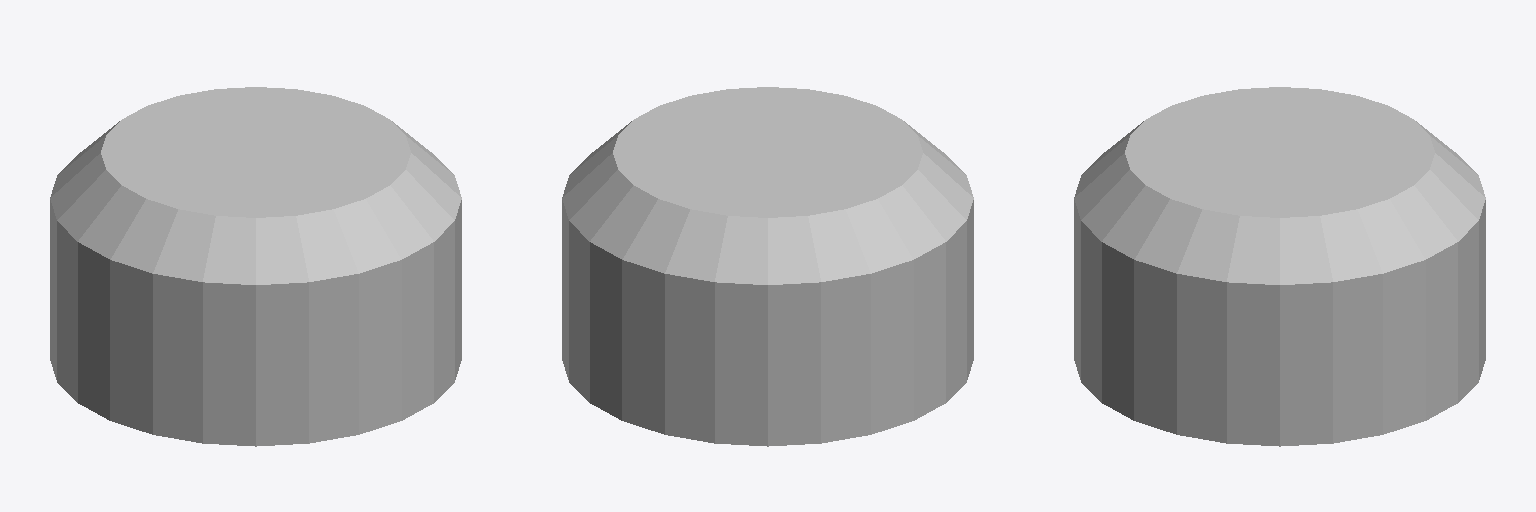
Rendered from cap.obj.
3 views of the same model, side by side, from view 1: azimuth 30°, elevation 25°; view 2: azimuth 150°, elevation 25°; view 3: azimuth 270°, elevation 25° (orthographic).
Visible parts, largest first — view 1: Cap.004; view 2: Cap.004; view 3: Cap.004.
Boxes of the visible parts, x1=… form: Cap.004: x1=50, y1=87, x2=461, y2=446; Cap.004: x1=562, y1=87, x2=973, y2=446; Cap.004: x1=1074, y1=87, x2=1485, y2=446.
Size of the model in its own units: 27.63 by 15.32 by 27.63.